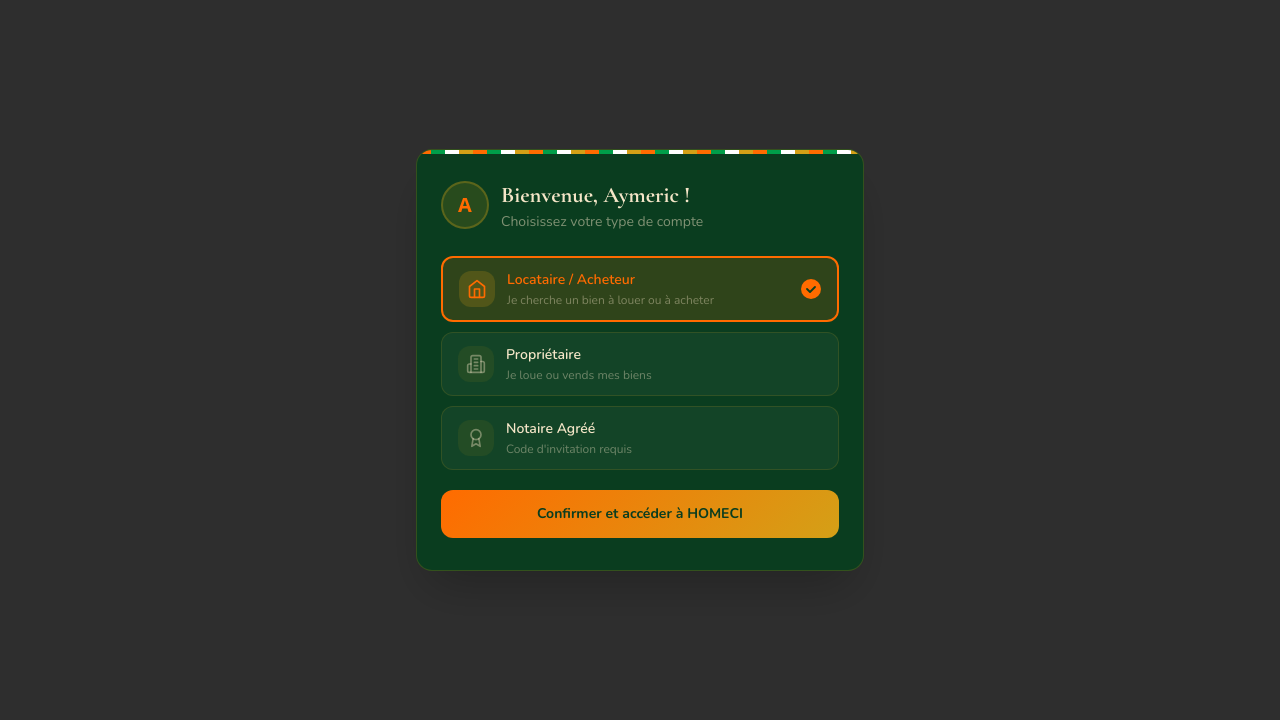
Test case: RoleSelectModal › affiche le champ de code quand Notaire est sélectionné
Click the text "Notaire Agréé": x=551, y=428 x1=506 y1=419 x2=595 y2=438
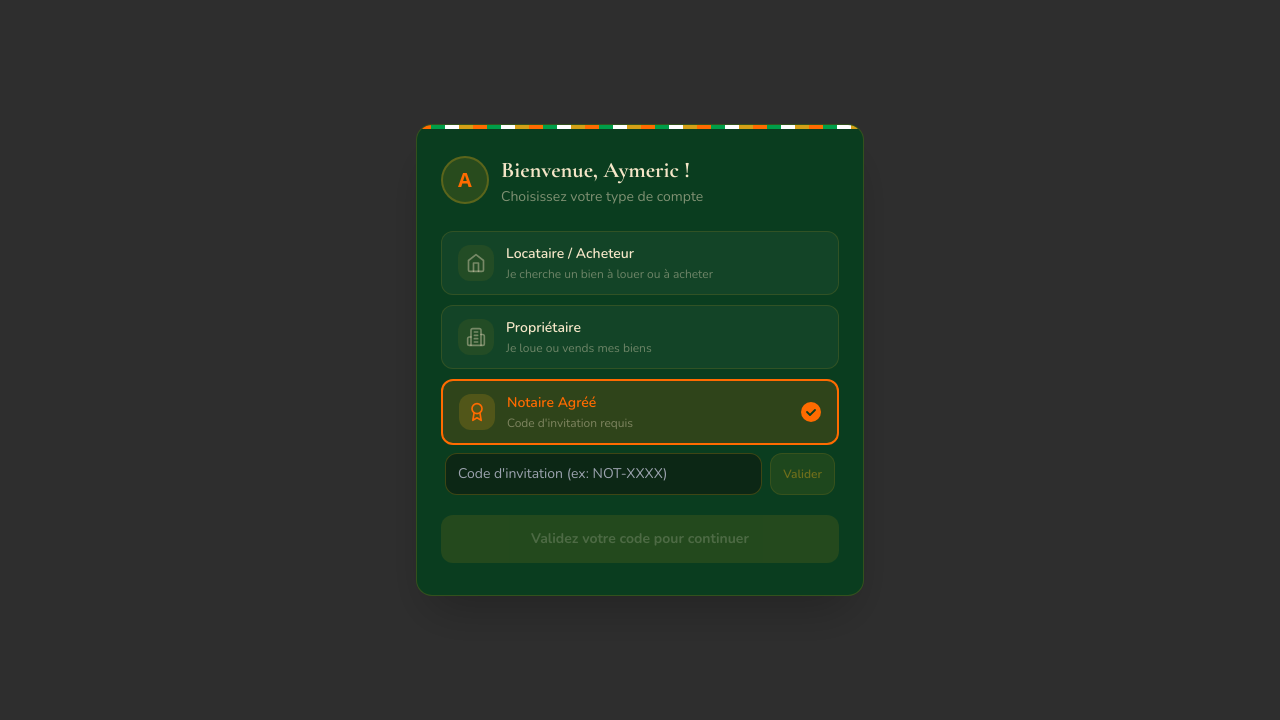
Check: the field with placeholder "Code d'invitation (ex: NOT-XXXX)" is shown, box x1=445 y1=453 x2=762 y2=495
